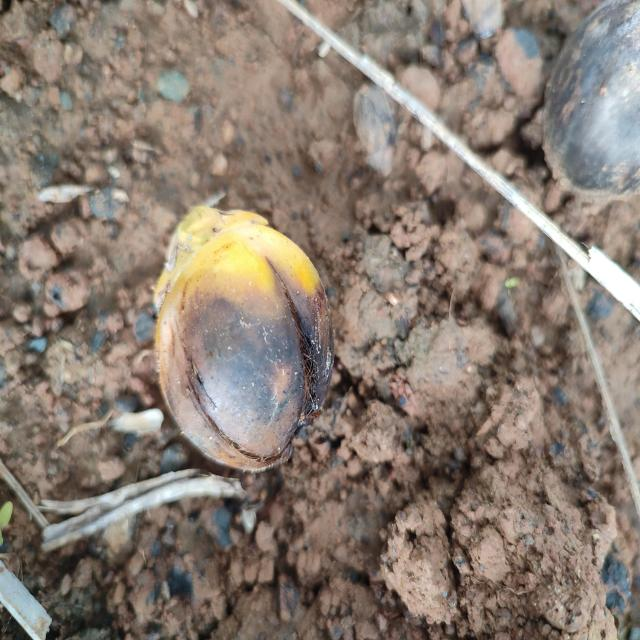damaged: (155, 206, 333, 472)
